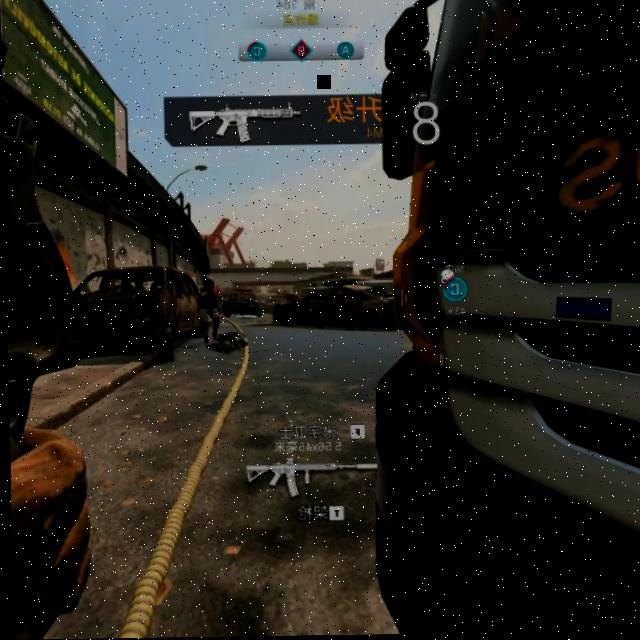MW2_body: (196, 277, 221, 344)
